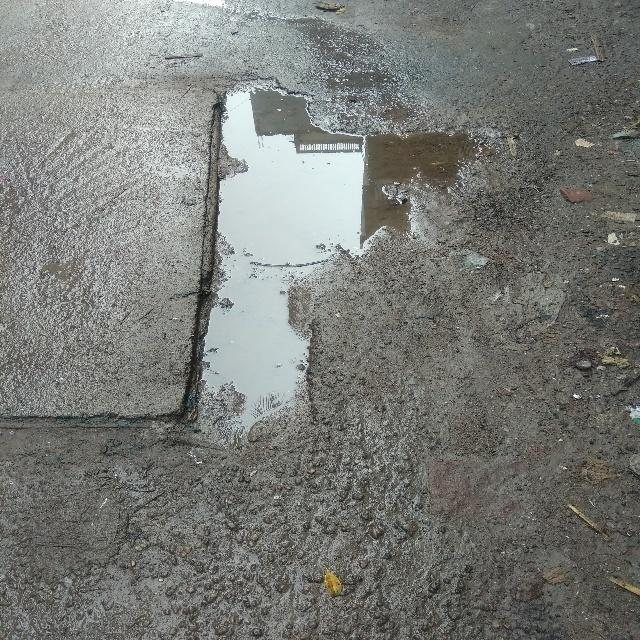Surface Erosion: (54, 10, 542, 585)
